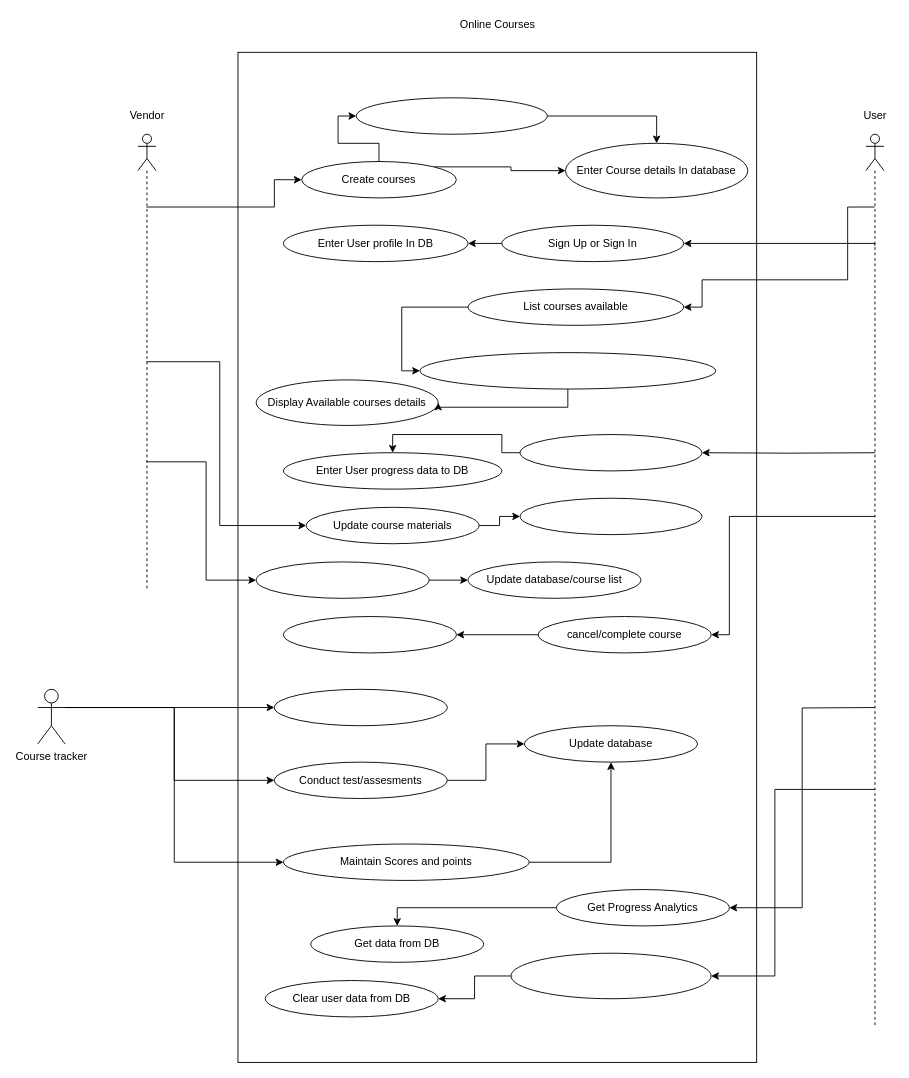
Image size: 909x1078. Some labels were removed from this diagram. The centre of each missing label's shape, as x and y in pixels:
Add Materials and set price: the point at 451,115
Add/Remove Courses: the point at 342,579
Check availablity of courses in Course list DB: the point at 567,370
Delete/Deactivate account: the point at 610,975
Enroll a selected course: the point at 610,452
Enter updates to DB: the point at 610,516
Track user Progress: the point at 360,707
Update database of user data: the point at 369,634
